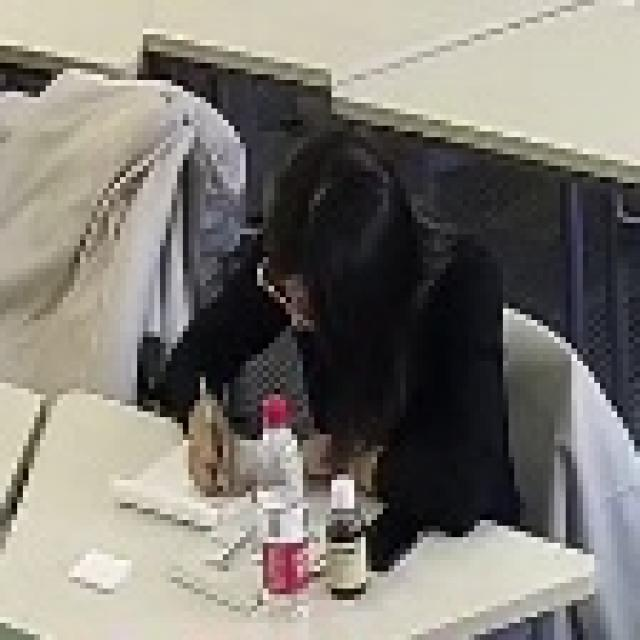write: (172, 138, 520, 565)
